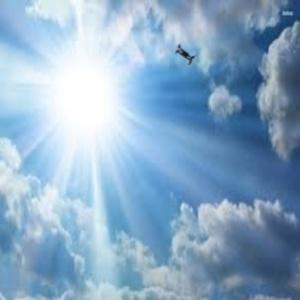drone: (151, 20, 223, 92)
